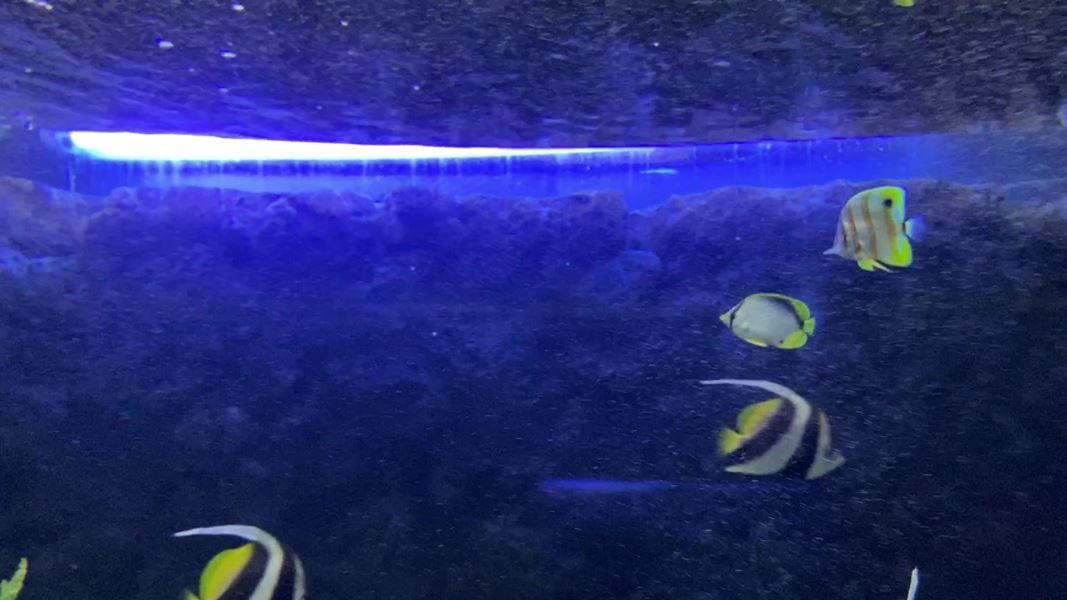Black-backed butterflyfish: (713, 286, 830, 359)
